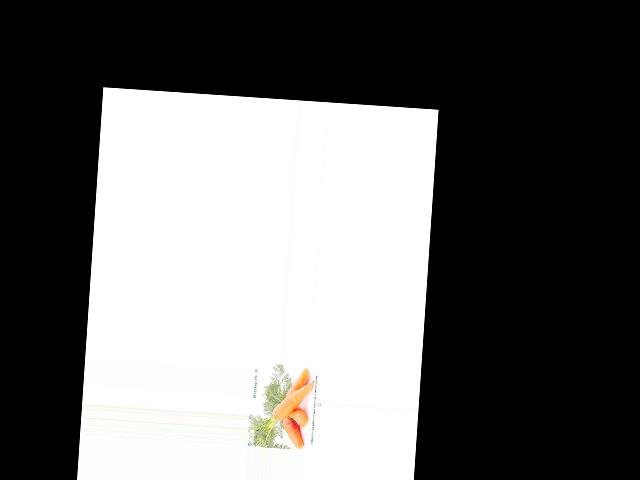carrot: (278, 415, 306, 448)
